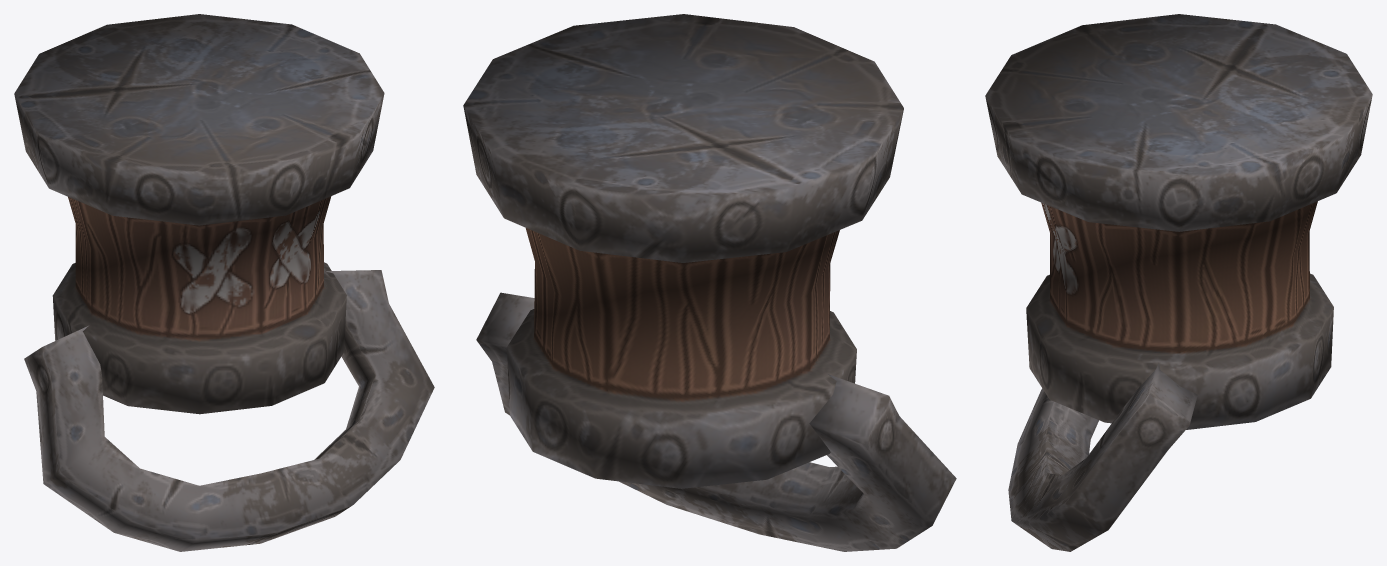
Rendered from Dummy_bucket.fbx.
3 renders of one model, left to right at view 1: azimuth 30°, elevation 25°; view 2: azimuth 150°, elevation 25°; view 3: azimuth 270°, elevation 25°, orthographic. The views are drawn at different scales.
Visible parts, largest first — view 1: Dummy_bucket; view 2: Dummy_bucket; view 3: Dummy_bucket.
Part boxes in pixels (x1=…): Dummy_bucket: x1=14, y1=14, x2=434, y2=551; Dummy_bucket: x1=463, y1=14, x2=956, y2=551; Dummy_bucket: x1=985, y1=14, x2=1372, y2=551.
Bounding box in the file's own units: 54.8 × 57.82 × 47.84.
1 material, 1 textured.
